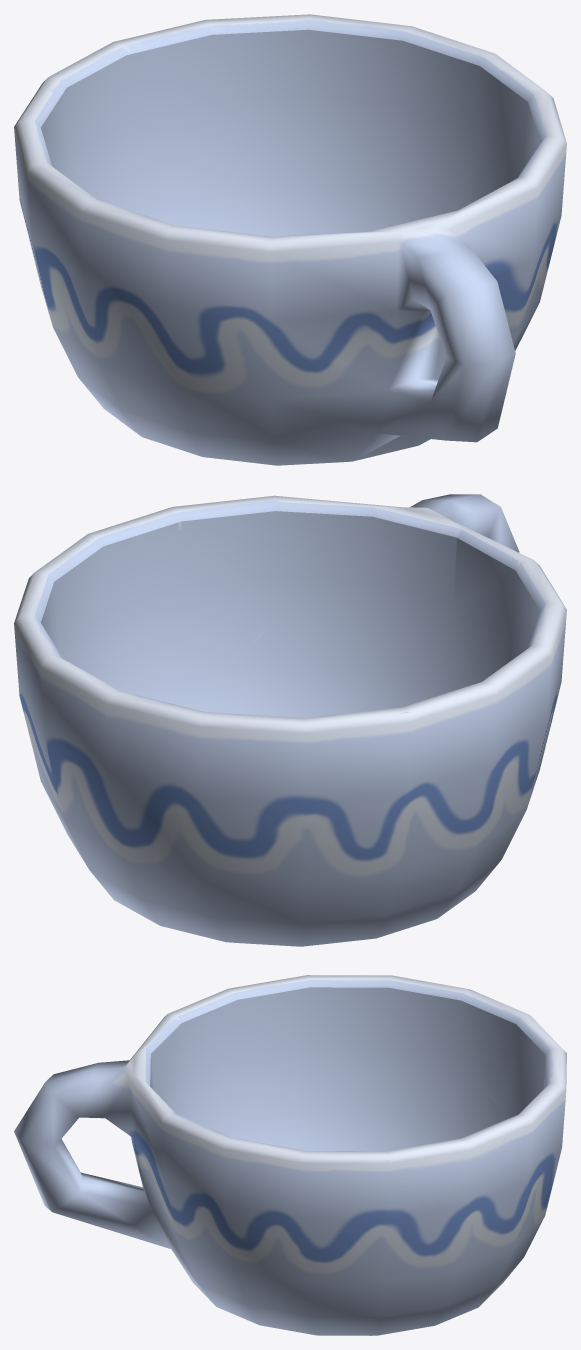
File: cup-bleu.glb
The picture shows the model from 3 angles, top to bottom: view 1: azimuth 30°, elevation 25°; view 2: azimuth 150°, elevation 25°; view 3: azimuth 270°, elevation 25°; orthographic projection. The views are drawn at different scales.
Visible parts, largest first — view 1: Cup; view 2: Cup; view 3: Cup.
Boxes of the visible parts, x1,y1,x2,y2 form: Cup: (14, 14, 566, 465); Cup: (14, 494, 566, 946); Cup: (14, 975, 566, 1335).
Bounding box in the file's own units: 69.58 × 38.51 × 87.87.
1 material, 1 textured.
